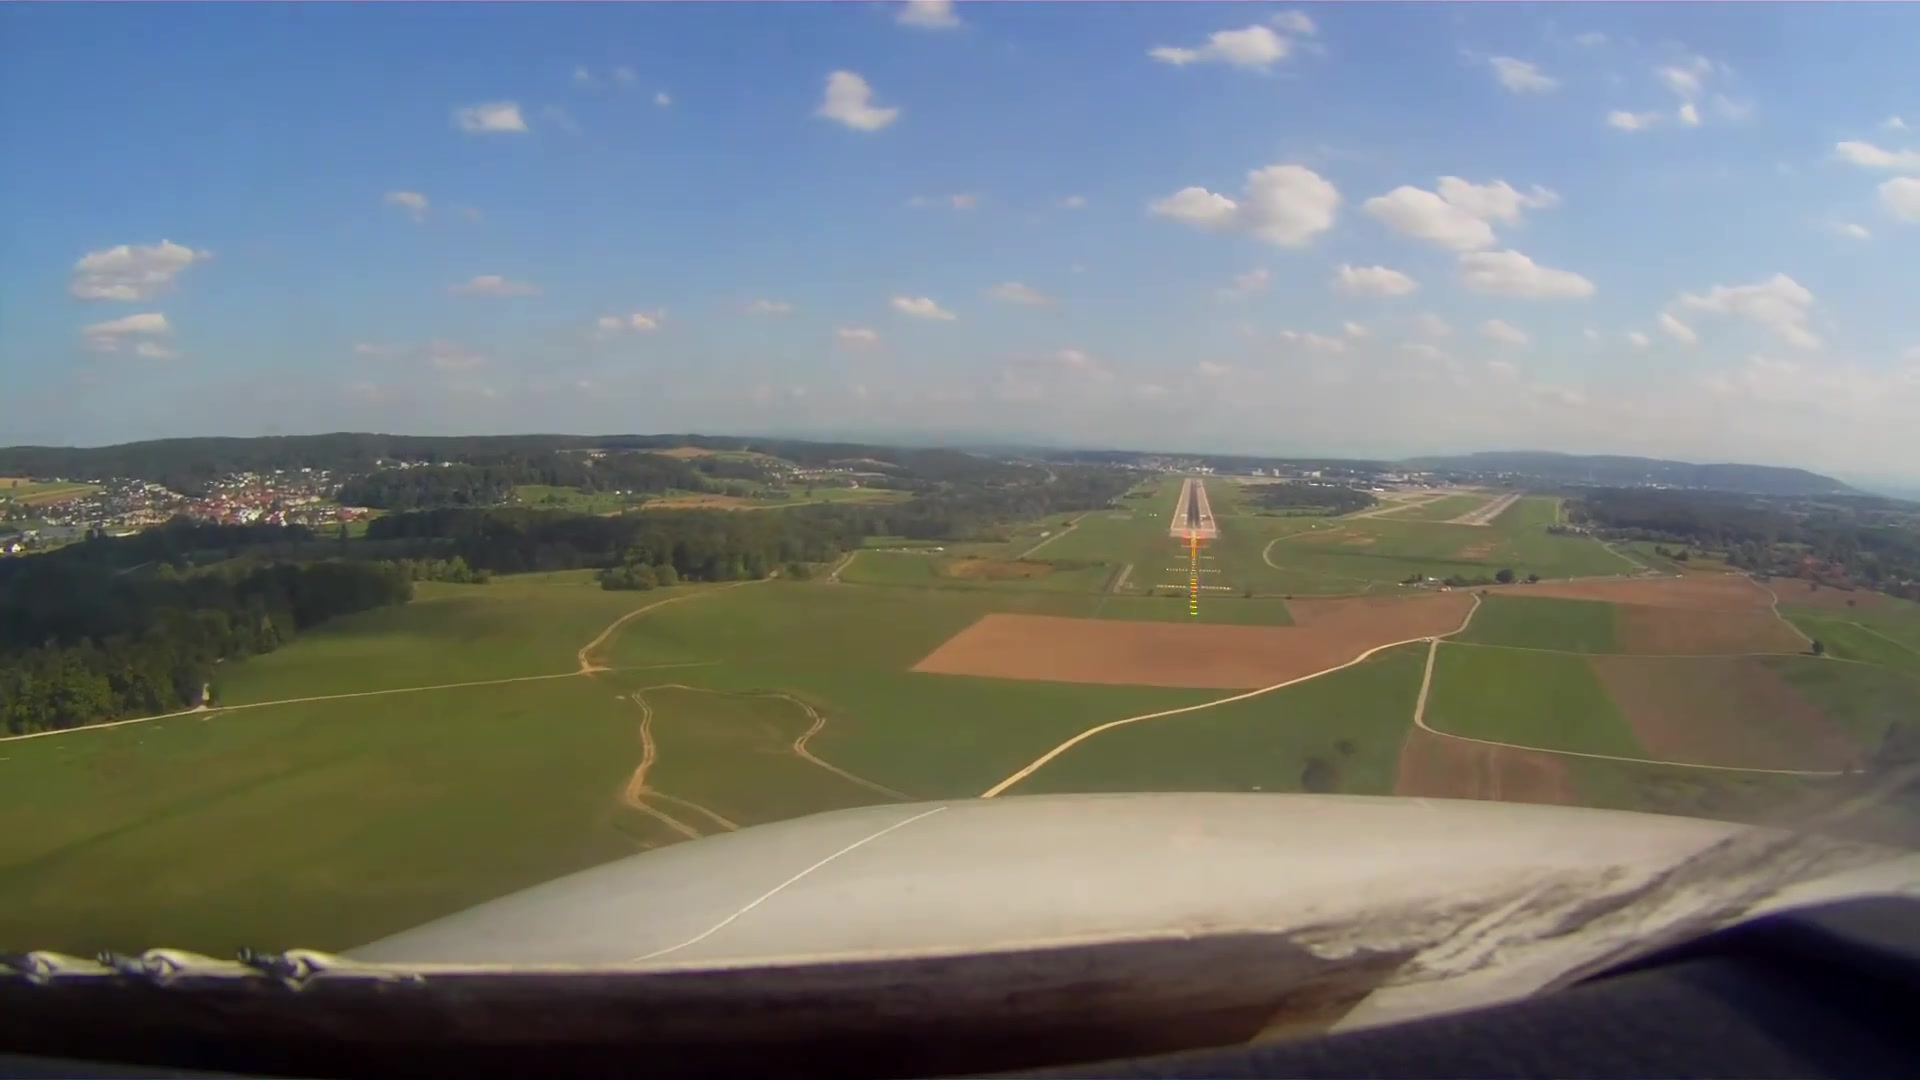runway: (1168, 475, 1222, 534), (1451, 487, 1531, 525)
